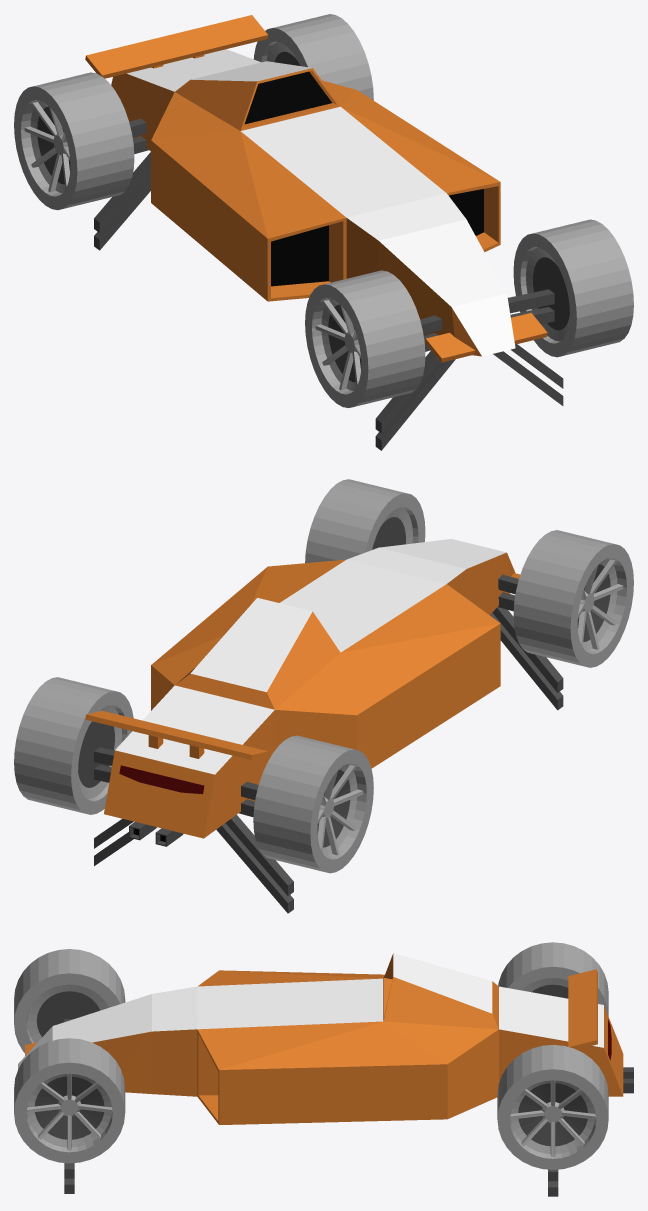
The model's file is car.glb.
3 renders of one model, top to bottom at view 1: azimuth 30°, elevation 25°; view 2: azimuth 150°, elevation 25°; view 3: azimuth 270°, elevation 25°, orthographic. The views are drawn at different scales.
Visible parts, largest first — view 1: Body, WheelBR, WheelFR, WheelFL, WheelBL, SuspensionFR, SuspensionBR, Suspension, SuspensionFL; view 2: Body, WheelBR, WheelFR, WheelBL, WheelFL, SuspensionBR, SuspensionFR, Suspension, SuspensionBL; view 3: Body, WheelBL, WheelFL, WheelFR, WheelBR.
Boxes of the visible parts, x1,y1,x2,y2 form: Body: (85,15,547,362); WheelBR: (14,72,134,210); WheelFR: (305,270,425,407); WheelFL: (513,219,633,357); WheelBL: (253,14,373,100); SuspensionFR: (375,350,455,450); SuspensionBR: (94,152,150,250); Suspension: (129,118,554,351); SuspensionFL: (493,344,563,405); Body: (85,539,520,846); WheelBR: (253,735,373,873); WheelFR: (513,530,633,667); WheelBL: (14,677,133,814); WheelFL: (305,479,425,563); SuspensionBR: (216,814,293,913); SuspensionFR: (490,607,563,710); Suspension: (94,574,518,817); SuspensionBL: (94,819,133,865); Body: (18,953,633,1124); WheelBL: (497,1045,608,1169); WheelFL: (14,1038,125,1163); WheelFR: (14,949,125,1052); WheelBR: (498,942,608,1016).
Size of what is drawn, in the model's own units: 1.79 by 1.25 by 3.69.
